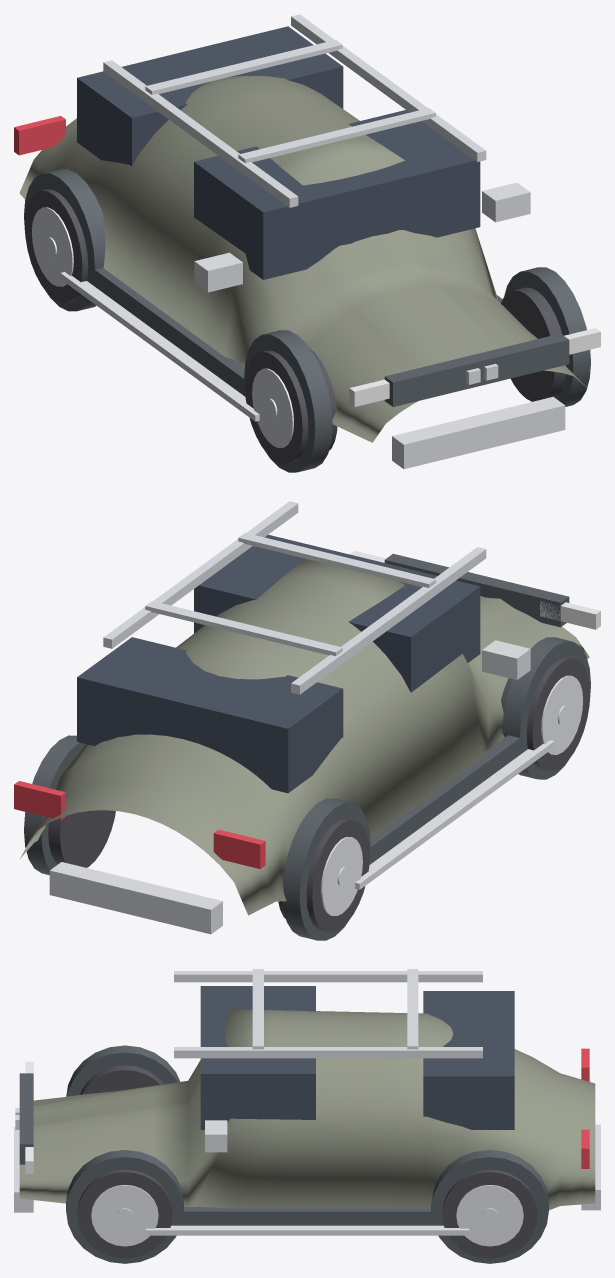
3 views of the same model, one above another, from view 1: azimuth 30°, elevation 25°; view 2: azimuth 150°, elevation 25°; view 3: azimuth 270°, elevation 25° (orthographic). The views are drawn at different scales.
Parts seen in each view (by area): view 1: Car_Body, Car_Windows, Car_Trim_Plastic, Roof_Bars, Car_Skid_Plates, Car_Wheels, Car_Rims, Side_Steps, Car_Headlights, Car_Taillights; view 2: Car_Body, Car_Windows, Car_Trim_Plastic, Roof_Bars, Car_Wheels, Car_Skid_Plates, Car_Rims, Side_Steps, Car_Taillights, Car_Headlights; view 3: Car_Body, Car_Windows, Car_Trim_Plastic, Roof_Bars, Car_Wheels, Car_Rims, Side_Steps, Car_Skid_Plates, Car_Taillights.
Boxes of the visible parts, x1,y1,x2,y2 form: Car_Body: (19,76,588,442); Car_Windows: (77,26,480,279); Car_Trim_Plastic: (24,169,590,472); Roof_Bars: (103,14,486,207); Car_Skid_Plates: (194,182,565,469); Car_Wheels: (24,189,566,464); Car_Rims: (31,207,293,447); Side_Steps: (60,272,259,421); Car_Headlights: (349,328,600,406); Car_Taillights: (14,116,65,155); Car_Body: (20,559,589,915); Car_Windows: (77,534,480,793); Car_Trim_Plastic: (24,553,590,940); Roof_Bars: (103,501,486,694); Car_Wheels: (48,657,590,932); Car_Skid_Plates: (49,640,530,934); Car_Rims: (321,675,583,915); Side_Steps: (355,740,554,889); Car_Taillights: (14,781,265,869); Car_Headlights: (349,550,600,629); Car_Body: (19,1009,595,1210); Car_Windows: (200,986,514,1129); Car_Trim_Plastic: (19,1045,548,1263); Roof_Bars: (174,969,482,1058); Car_Wheels: (77,1065,537,1258); Car_Rims: (91,1185,523,1246); Side_Steps: (146,1225,468,1235); Car_Skid_Plates: (14,1108,600,1212); Car_Taillights: (581,1048,589,1168).
Bounding box in the file's own units: 2.2 × 1.57 × 4.18.
